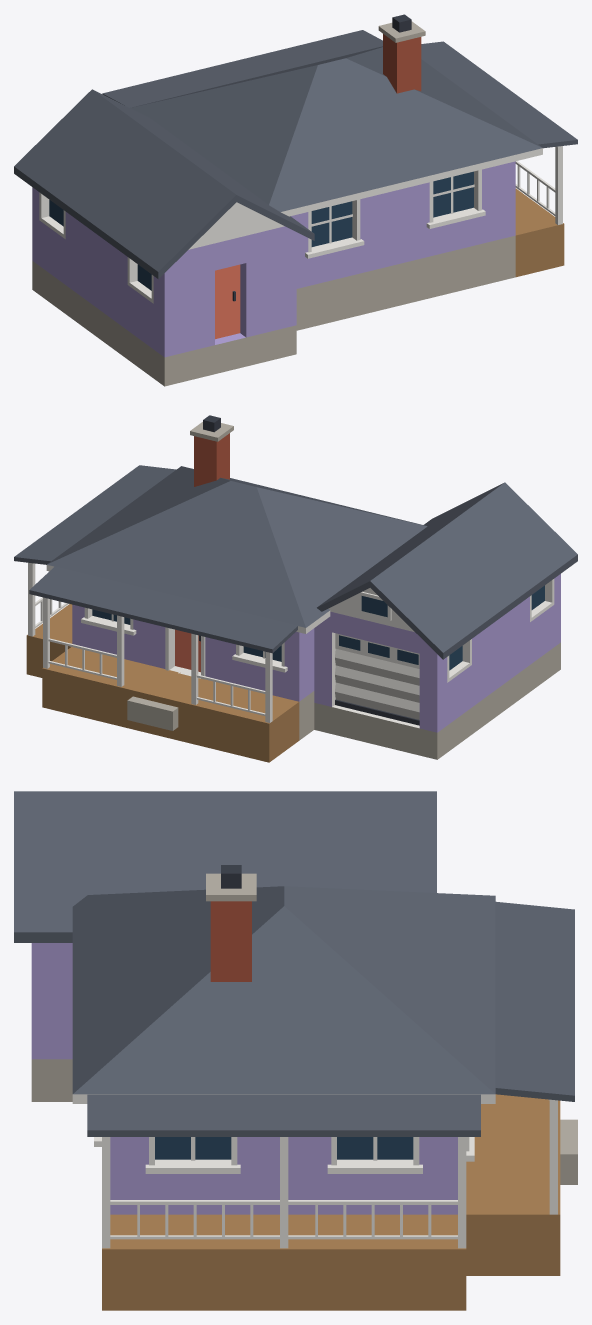
Rendered from house_f.glb.
3 renders of one model, top to bottom at view 1: azimuth 30°, elevation 25°; view 2: azimuth 150°, elevation 25°; view 3: azimuth 270°, elevation 25°, orthographic. The views are drawn at different scales.
Parts seen in each view (by area): view 1: Building, Building_Glass; view 2: Building, Building_Glass; view 3: Building, Building_Glass.
Boxes of the visible parts, left/top/right/bottom form: Building: left=14, top=14, right=577, bottom=386; Building_Glass: left=49, top=171, right=473, bottom=290; Building: left=14, top=415, right=577, bottom=762; Building_Glass: left=92, top=585, right=544, bottom=670; Building: left=14, top=791, right=577, bottom=1310; Building_Glass: left=155, top=1137, right=413, bottom=1159.
Size of the model in its own units: 12.8 by 6.7 by 9.6.
